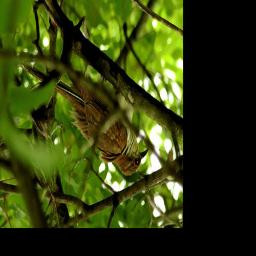Cuckoo: (20, 61, 149, 178)
